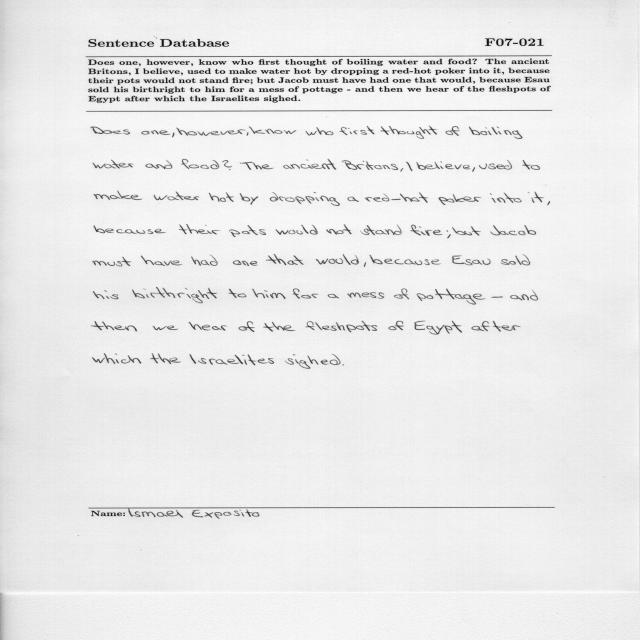word: (132, 287, 217, 303), (417, 289, 485, 305), (270, 192, 340, 206), (190, 354, 274, 365), (285, 354, 341, 369), (305, 321, 377, 332), (380, 126, 437, 139), (365, 192, 428, 203), (469, 126, 522, 139), (316, 254, 366, 267), (416, 161, 475, 172), (94, 225, 166, 234), (414, 321, 462, 334), (283, 159, 336, 170), (342, 160, 399, 170), (472, 321, 521, 332), (93, 353, 142, 364), (491, 225, 536, 236), (439, 194, 482, 205), (360, 224, 402, 235), (91, 321, 137, 331), (141, 255, 182, 266), (229, 225, 266, 237), (94, 191, 142, 200), (275, 225, 318, 235), (188, 129, 249, 136), (266, 254, 304, 265), (179, 225, 220, 235), (154, 192, 199, 201), (452, 256, 491, 266), (181, 159, 219, 169), (93, 257, 131, 267), (93, 160, 133, 169), (411, 225, 443, 236), (384, 259, 441, 265), (189, 322, 227, 331), (150, 353, 181, 364), (252, 289, 286, 299), (490, 193, 522, 203), (263, 322, 295, 332), (501, 255, 530, 266), (340, 126, 375, 135), (91, 127, 130, 135), (510, 290, 538, 301), (191, 255, 218, 266), (452, 226, 481, 236), (326, 224, 352, 235), (240, 162, 274, 170), (347, 292, 384, 299), (306, 127, 334, 136), (209, 192, 234, 202), (293, 289, 318, 299), (146, 160, 173, 169), (488, 160, 512, 170), (142, 131, 175, 138), (94, 290, 119, 299), (240, 193, 258, 205), (238, 321, 255, 332), (528, 192, 544, 203), (523, 160, 540, 170), (229, 289, 247, 298), (265, 129, 296, 134), (233, 260, 258, 266), (394, 289, 409, 299), (446, 126, 460, 136), (389, 321, 404, 330), (249, 126, 265, 134), (369, 255, 383, 264), (153, 326, 179, 330), (222, 160, 232, 170), (177, 128, 189, 136), (406, 161, 413, 171), (347, 197, 359, 202), (328, 294, 339, 298), (479, 164, 487, 169), (446, 231, 451, 239), (491, 296, 503, 298), (401, 168, 404, 172), (547, 201, 550, 205), (342, 365, 344, 366)
